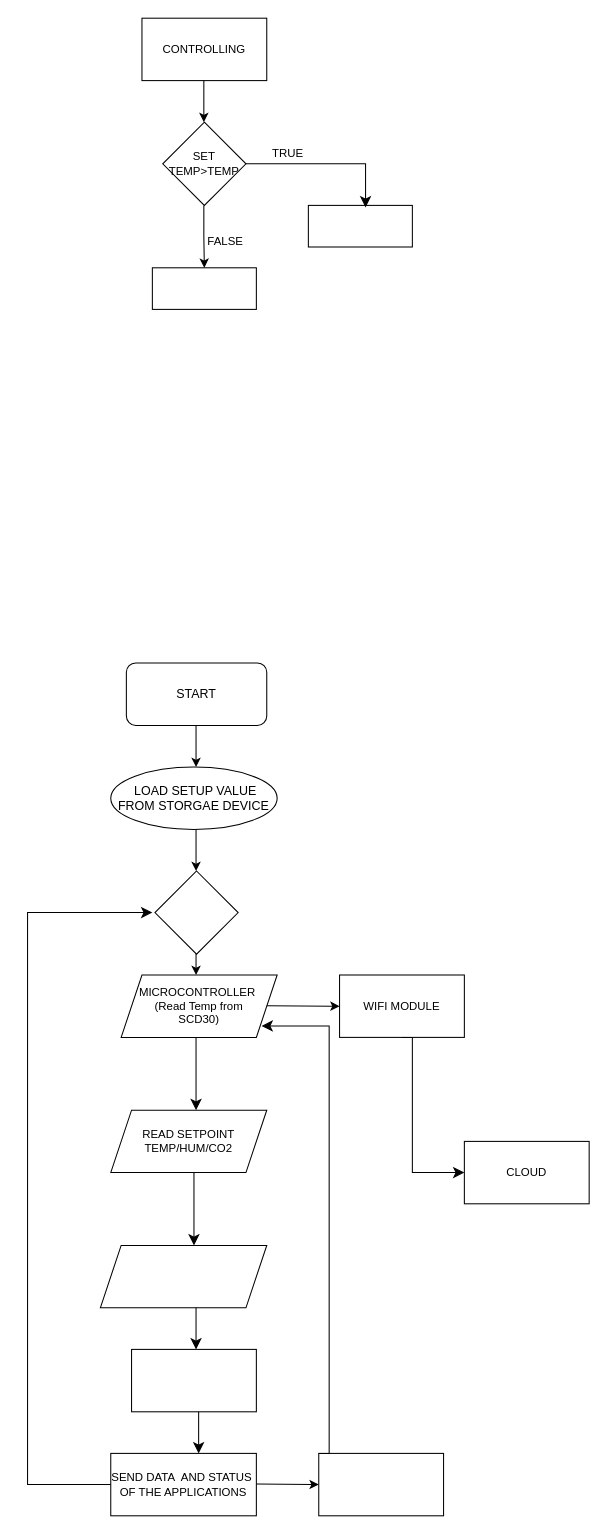
The diagram is 607 pixels wide and 1534 high, and some of its shapes have lost their labels. Here are the shapes that lost their labels. From the top down, the centre of each, then its label:
At point 196,912: "MAIN LOOP".
At point 183,1276: "COMPARE TEMP/HUM/CO2 TO SETPOINT".
At point 193,1380: "ACTION PERFORM BASED ON CONDITIONS".
At point 381,1484: "NEXTION DISPLAY AND READ SETUP VALUE".
